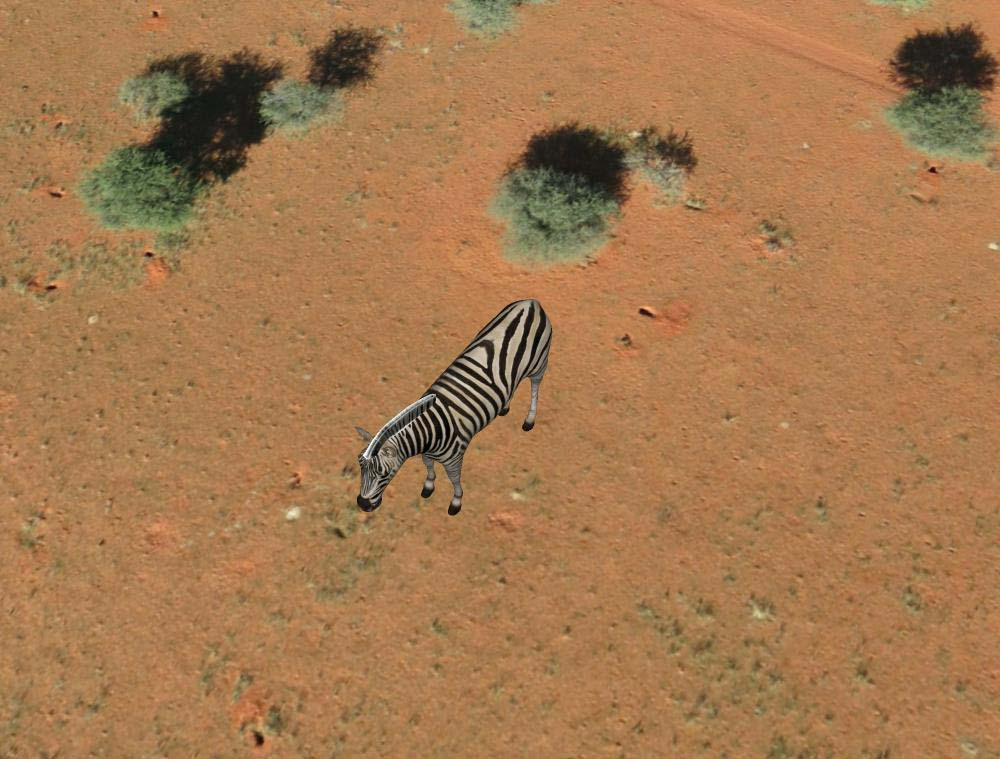zebra: (355, 292, 558, 519)
